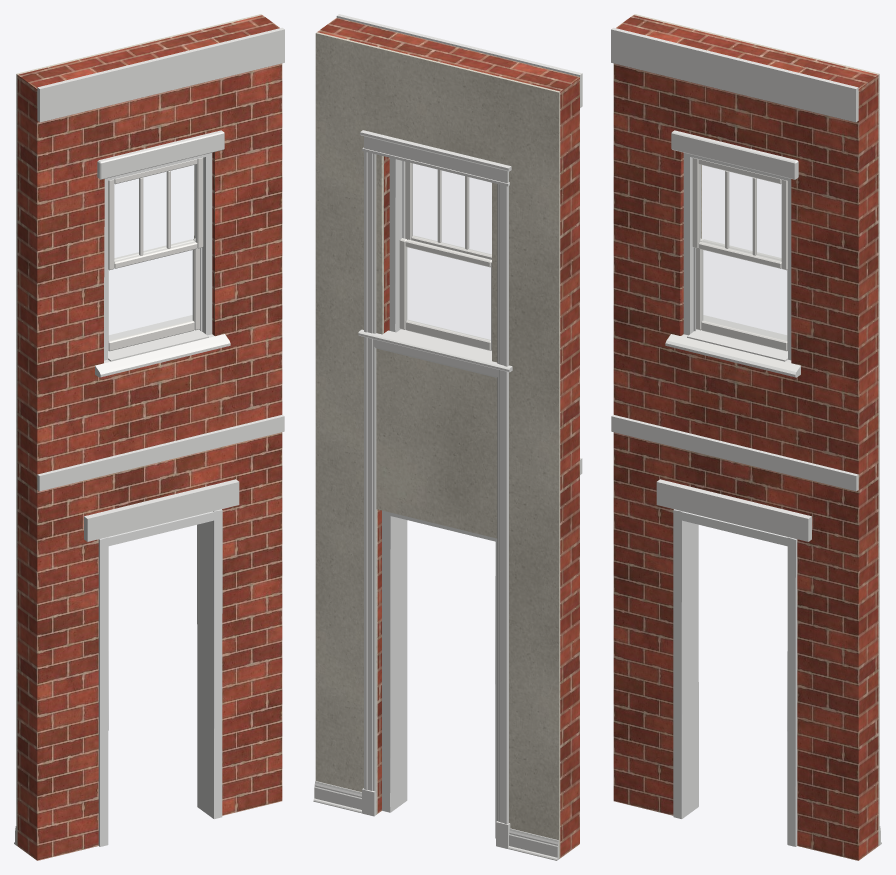
The model's file is wall_hall_door.glb.
The picture shows the model from 3 angles, left to right: view 1: azimuth 30°, elevation 25°; view 2: azimuth 150°, elevation 25°; view 3: azimuth 330°, elevation 25°; orthographic projection.
Visible parts, largest first — view 1: wall_hall_door_brick, wall_hall_door_trim, wall_hall_door_frame, wall_hall_door_glass, wall_hall_door_sash, wall_hall_door_plaster; view 2: wall_hall_door_plaster, molduras, wall_hall_door_brick, wall_hall_door_frame, wall_hall_door_glass, wall_hall_door_sash, wall_hall_door_trim; view 3: wall_hall_door_brick, wall_hall_door_trim, wall_hall_door_frame, wall_hall_door_glass, wall_hall_door_sash, wall_hall_door_plaster.
Boxes of the visible parts, x1=… form: wall_hall_door_brick: x1=17, y1=15, x2=282, y2=860; wall_hall_door_trim: x1=37, y1=27, x2=284, y2=541; wall_hall_door_frame: x1=98, y1=153, x2=222, y2=846; wall_hall_door_glass: x1=109, y1=165, x2=195, y2=340; wall_hall_door_sash: x1=108, y1=157, x2=203, y2=351; wall_hall_door_plaster: x1=16, y1=14, x2=261, y2=845; wall_hall_door_plaster: x1=315, y1=32, x2=560, y2=858; molduras: x1=313, y1=130, x2=558, y2=860; wall_hall_door_brick: x1=317, y1=17, x2=579, y2=857; wall_hall_door_frame: x1=382, y1=158, x2=497, y2=838; wall_hall_door_glass: x1=407, y1=164, x2=491, y2=339; wall_hall_door_sash: x1=399, y1=161, x2=491, y2=350; wall_hall_door_trim: x1=336, y1=14, x2=582, y2=474; wall_hall_door_brick: x1=613, y1=15, x2=878, y2=860; wall_hall_door_trim: x1=611, y1=27, x2=858, y2=541; wall_hall_door_frame: x1=673, y1=153, x2=797, y2=846; wall_hall_door_glass: x1=700, y1=165, x2=786, y2=340; wall_hall_door_sash: x1=692, y1=157, x2=787, y2=351; wall_hall_door_plaster: x1=634, y1=14, x2=879, y2=845.
Bounding box in the file's own units: 2 × 6.03 × 0.43.
6 materials, 2 textured.
